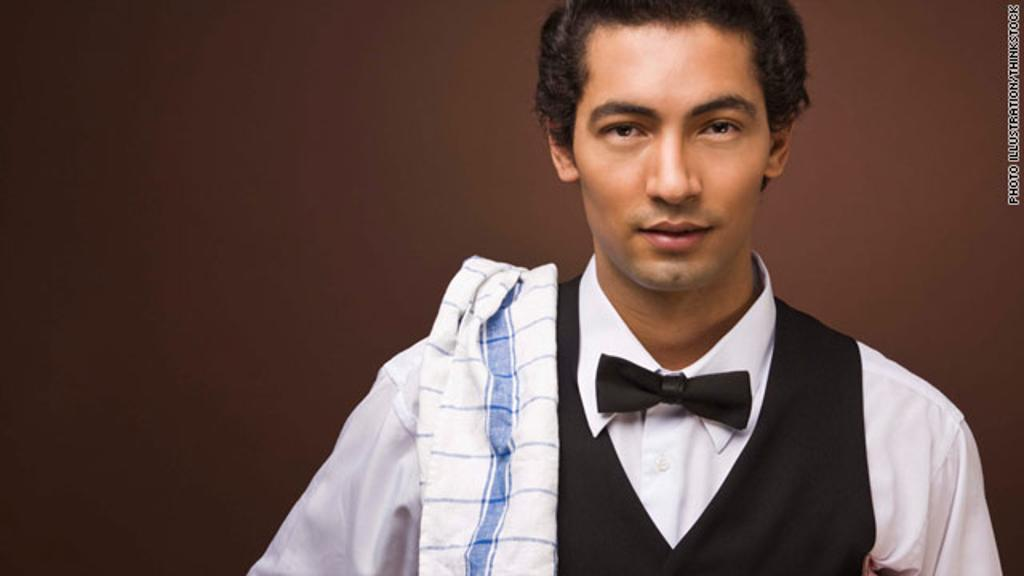face: (574, 24, 774, 284)
